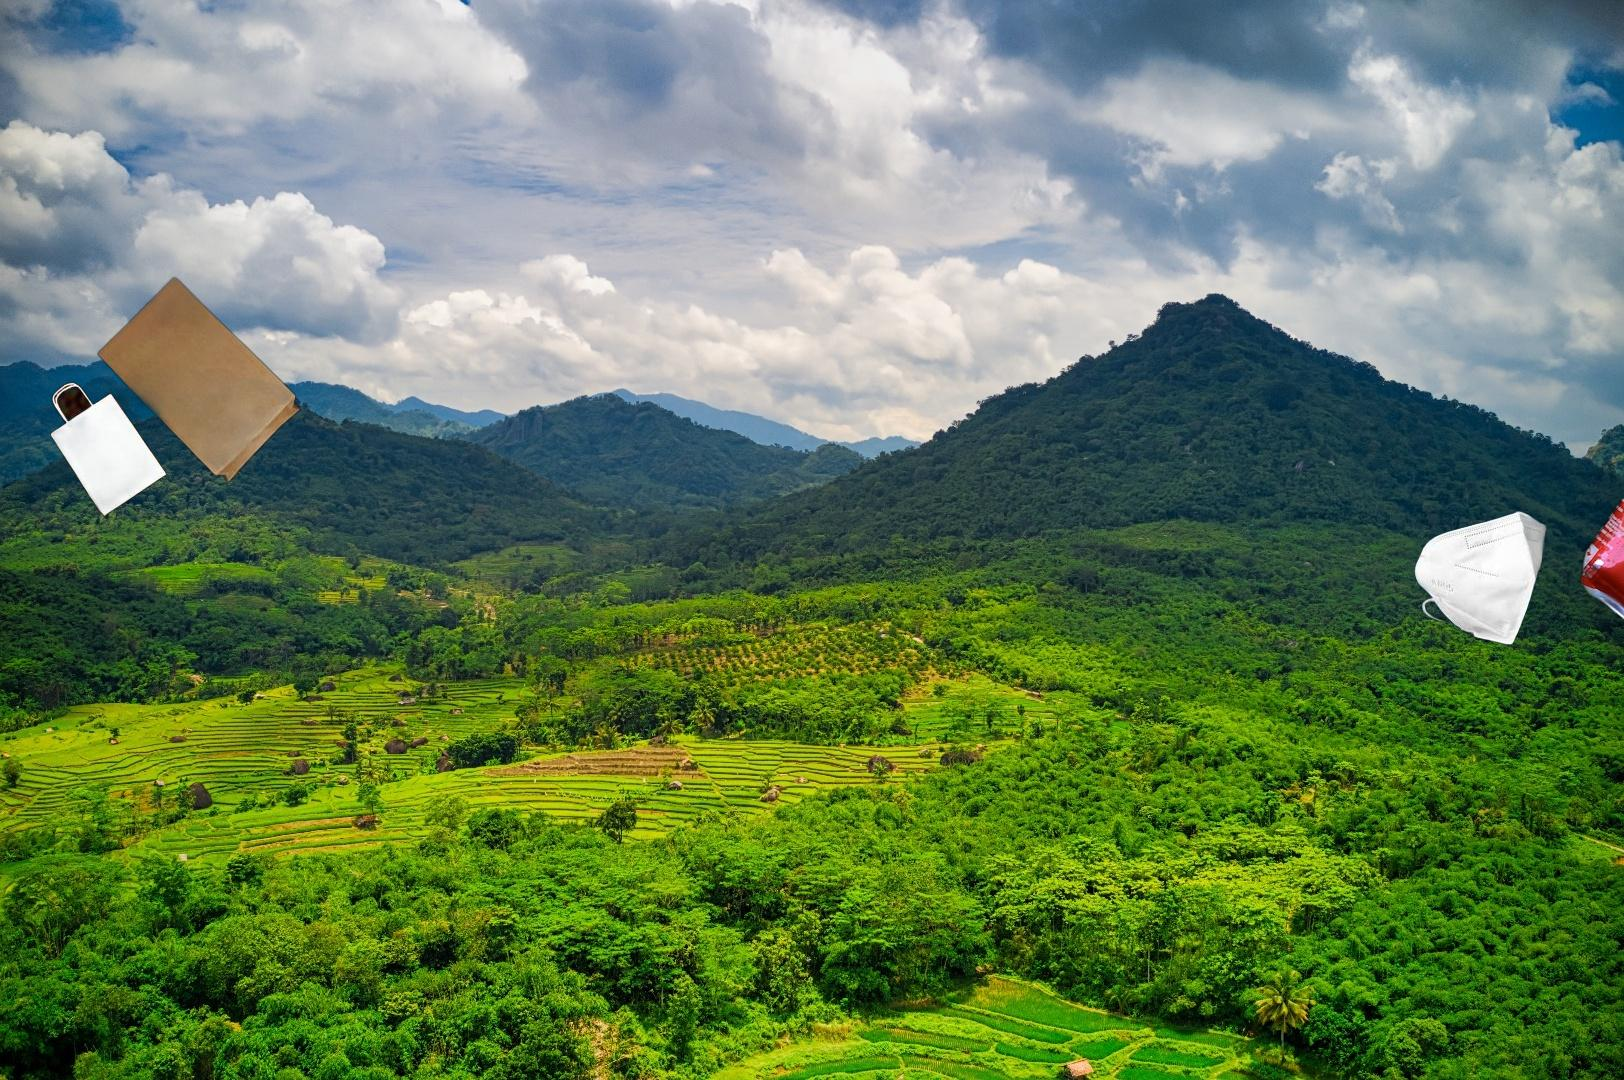metal-cans: (1575, 403, 1624, 639)
paper-bag: (49, 271, 304, 520)
trash: (1404, 475, 1549, 648)
